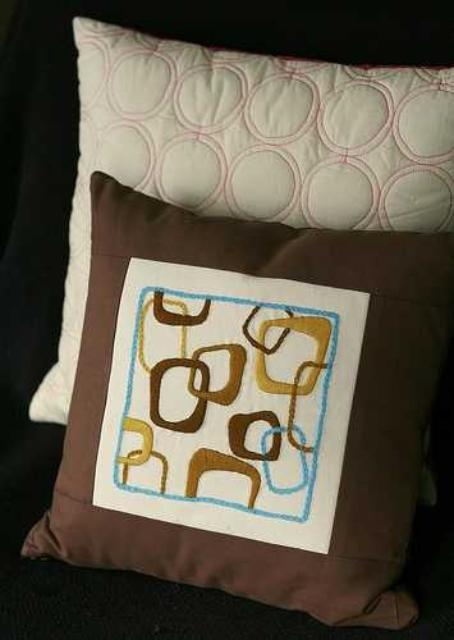pillow: (27, 16, 453, 424)
